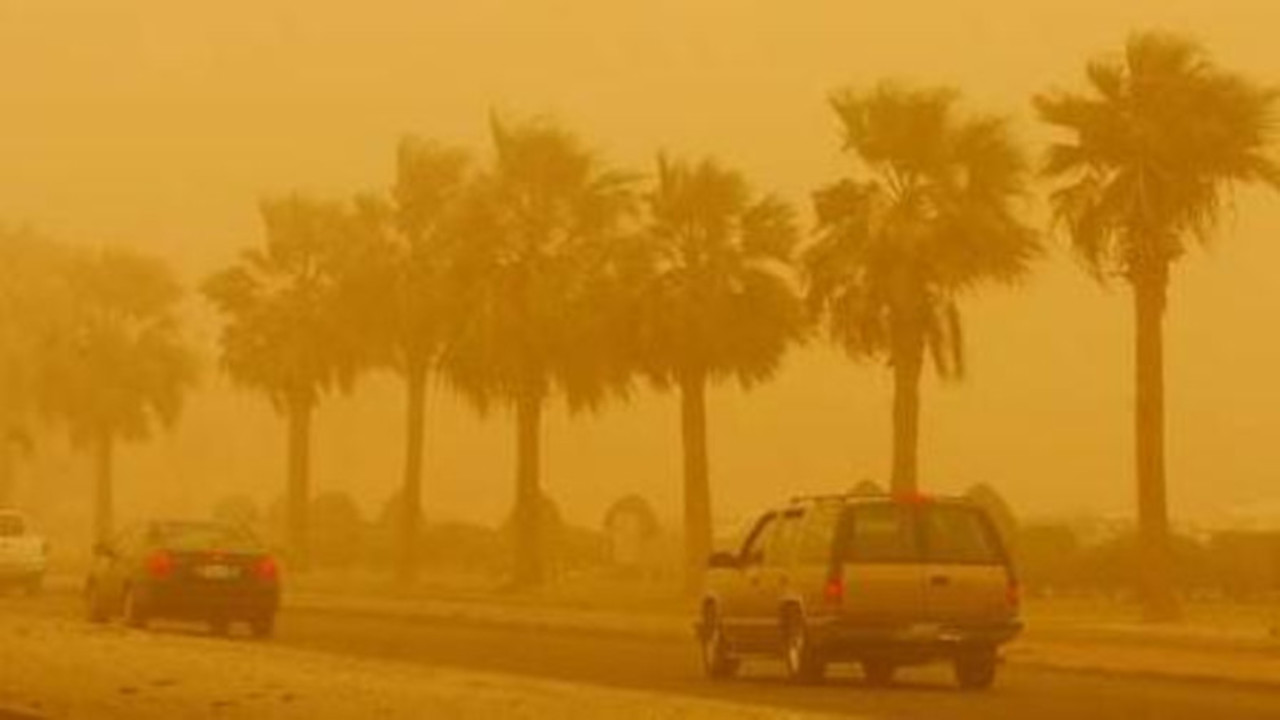car: (686, 488, 1028, 689), (83, 518, 283, 638), (0, 507, 49, 595)
